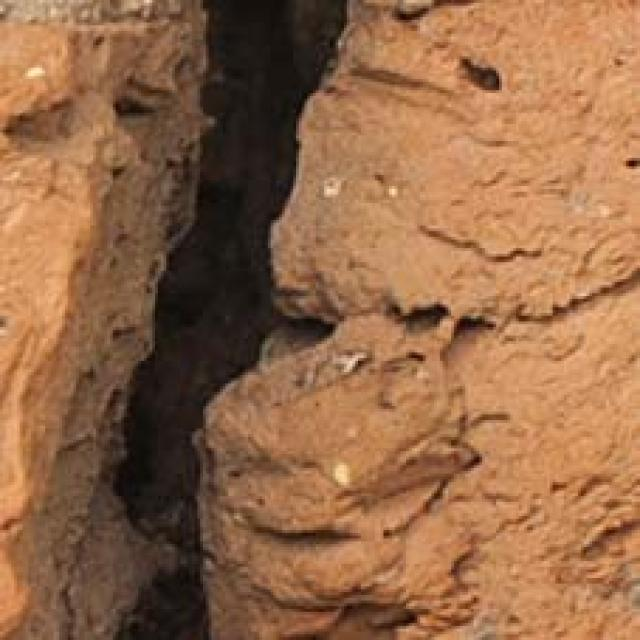Crack: (63, 0, 400, 640)
